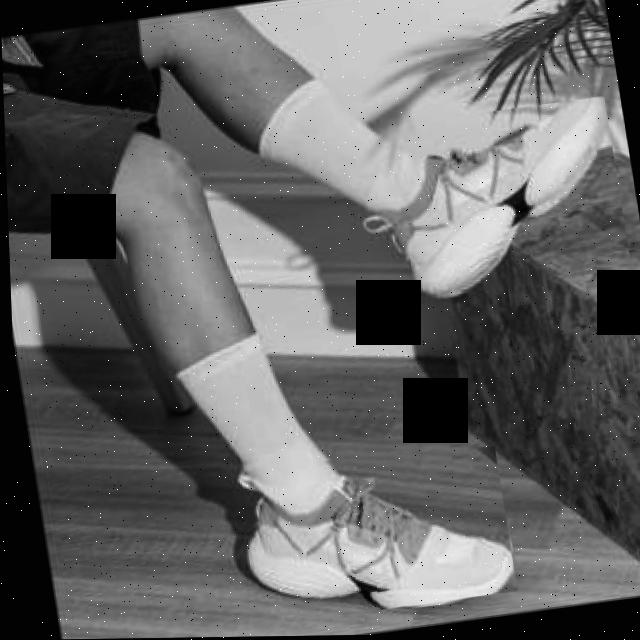shoe: (224, 433, 514, 628), (369, 97, 630, 303)
